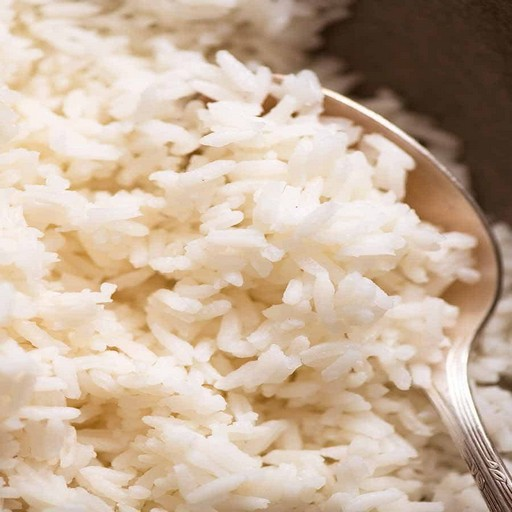rice: (41, 168, 366, 490)
